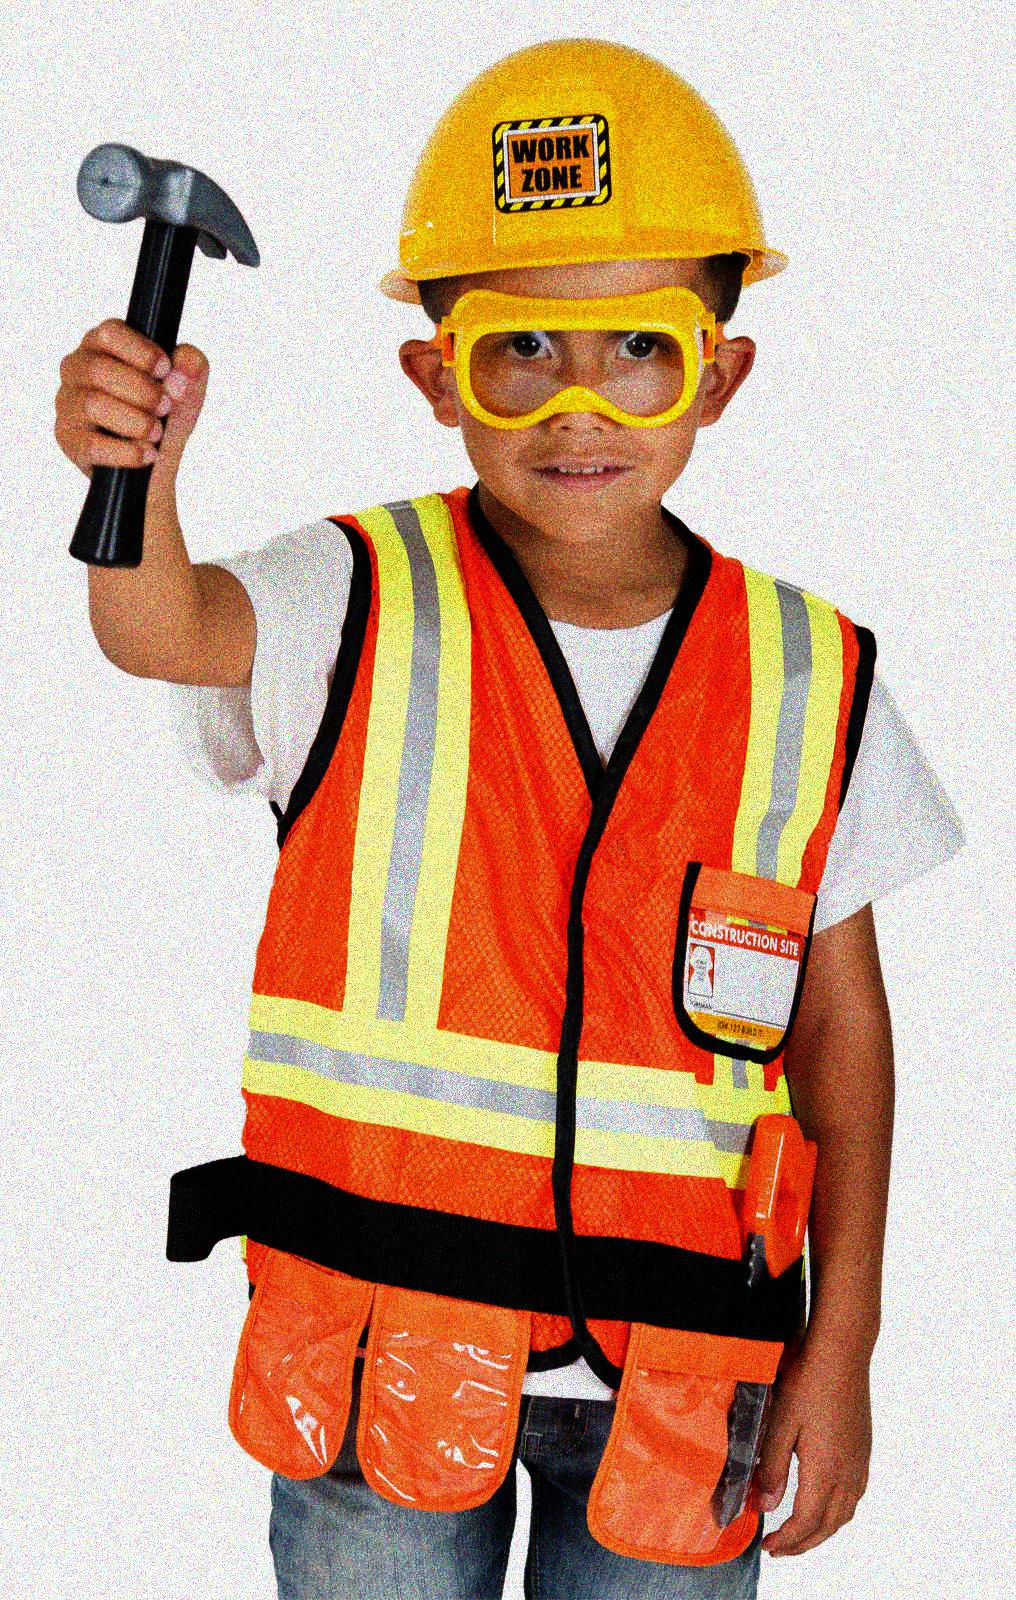helmet: (376, 22, 796, 543)
